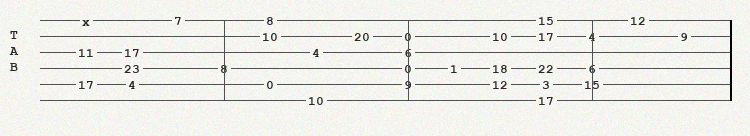0: (266, 78, 278, 90), (404, 30, 416, 42), (404, 62, 416, 74)
1: (450, 62, 462, 74)
10: (262, 30, 282, 42), (308, 94, 328, 106), (492, 30, 512, 42)
11: (78, 46, 98, 58)
12: (492, 78, 512, 90), (630, 14, 650, 26)
15: (538, 14, 558, 26), (584, 78, 604, 90)
17: (78, 78, 98, 90), (124, 46, 144, 58), (538, 94, 558, 106), (538, 30, 558, 42)
18: (492, 62, 512, 74)
20: (354, 30, 374, 42)
22: (538, 62, 558, 74)
23: (124, 62, 144, 74)
3: (542, 78, 554, 90)
4: (128, 78, 140, 90), (312, 46, 324, 58), (588, 30, 600, 42)
6: (404, 46, 416, 58), (588, 62, 600, 74)
7: (174, 14, 186, 26)
8: (220, 62, 232, 74), (266, 14, 278, 26)
9: (404, 78, 416, 90), (680, 30, 692, 42)
x: (82, 15, 94, 25)
